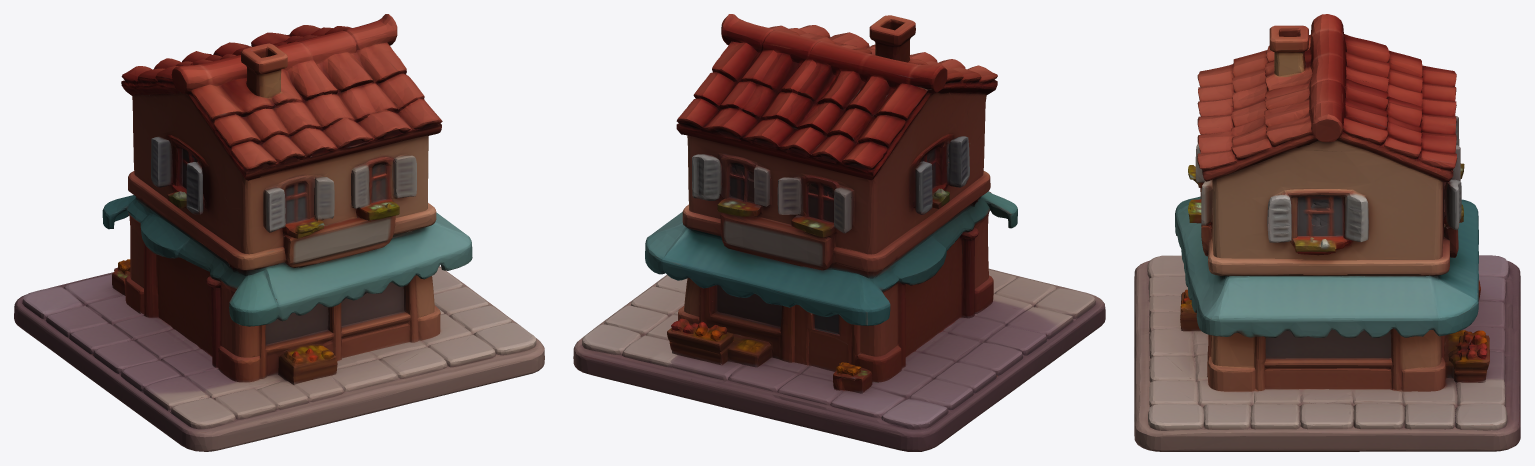
Rendered from casa_relleno_7.glb.
3 views of the same model, side by side, from view 1: azimuth 30°, elevation 25°; view 2: azimuth 150°, elevation 25°; view 3: azimuth 270°, elevation 25° (orthographic).
Visible parts, largest first — view 1: world; view 2: world; view 3: world.
Part boxes in pixels (<box>): world: <box>14,14,544,451</box>; world: <box>573,14,1105,451</box>; world: <box>1134,14,1520,451</box>.
Bounding box in the file's own units: 0.8485 × 0.706 × 0.7825.
1 material, 1 textured.
